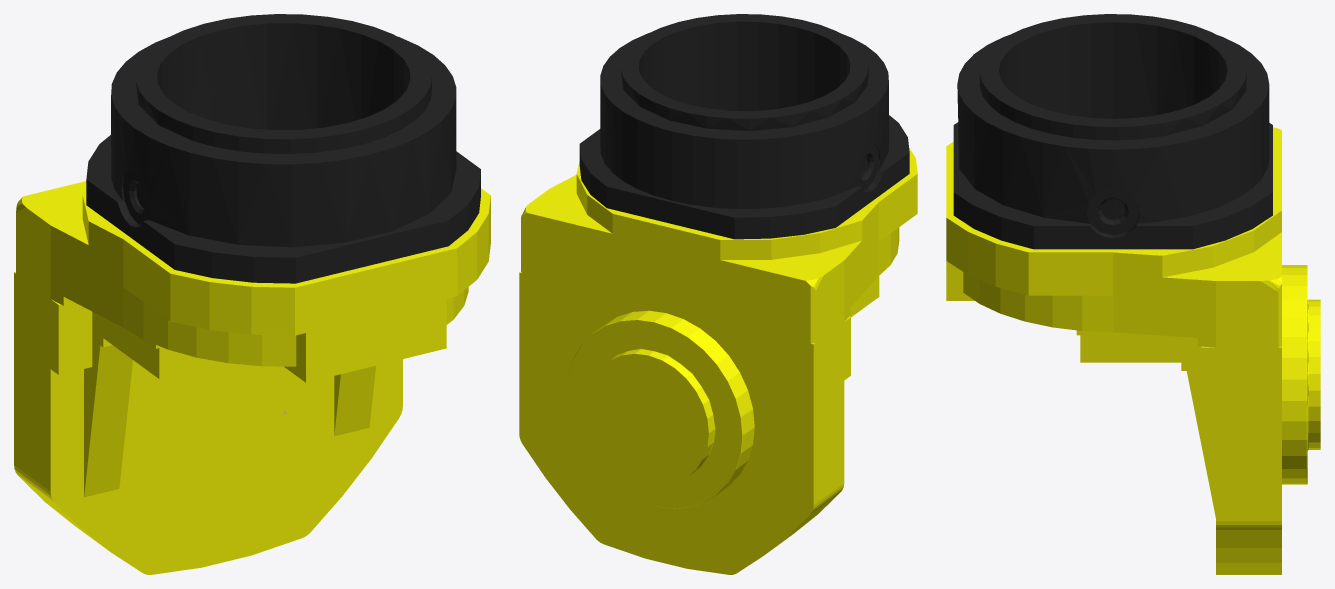
3 views of the same model, side by side, from view 1: azimuth 30°, elevation 25°; view 2: azimuth 150°, elevation 25°; view 3: azimuth 270°, elevation 25° (orthographic). The views are drawn at different scales.
Parts seen in each view (by area): view 1: node; view 2: node; view 3: node.
Part boxes in pixels (bbox=[...]): node: bbox=[14, 14, 490, 574]; node: bbox=[519, 14, 917, 574]; node: bbox=[946, 14, 1320, 574].
Size of the model in its own units: 100 by 143 by 102.
